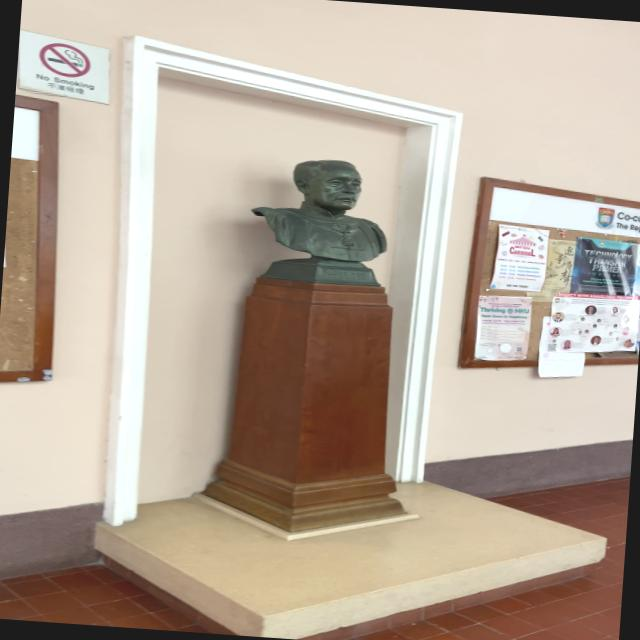statues: (236, 146, 408, 294)
